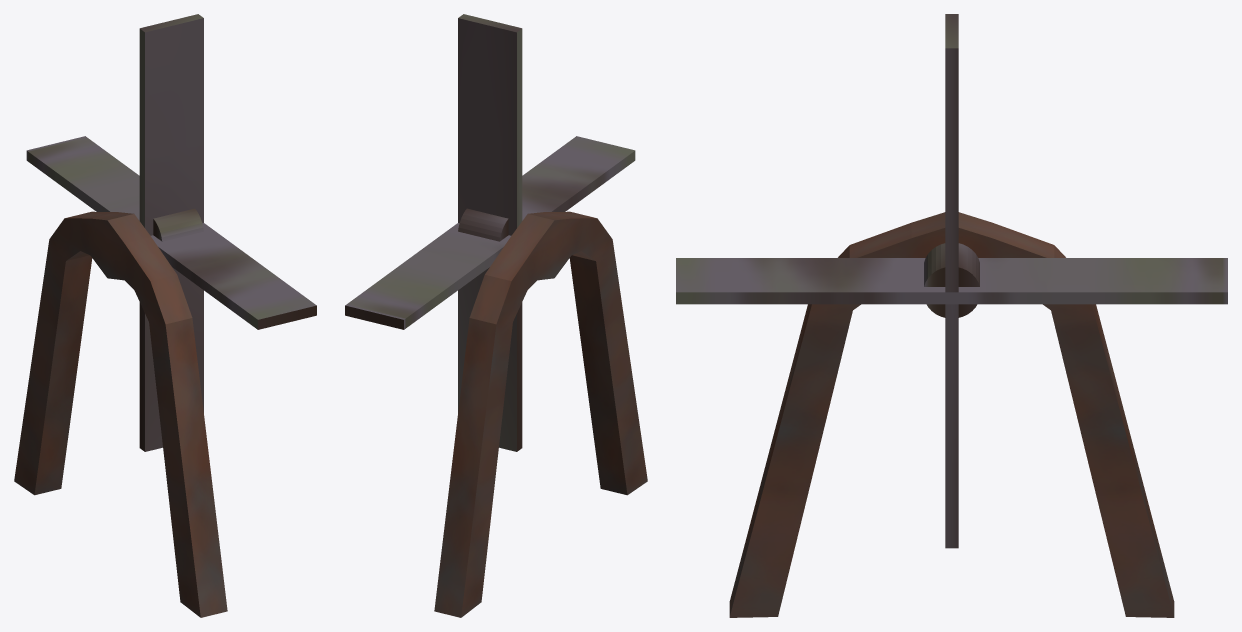
Rendered from BigCooler.fbx.
3 views of the same model, side by side, from view 1: azimuth 30°, elevation 25°; view 2: azimuth 150°, elevation 25°; view 3: azimuth 270°, elevation 25° (orthographic). The views are drawn at different scales.
Visible parts, largest first — view 1: Cube, Cube.002; view 2: Cube, Cube.002; view 3: Cube, Cube.002.
Boxes of the visible parts, box(x1,y1,x2,y2) form: Cube: box(14, 211, 227, 617); Cube.002: box(26, 14, 316, 451); Cube: box(434, 211, 647, 617); Cube.002: box(345, 14, 635, 451); Cube: box(729, 212, 1174, 617); Cube.002: box(676, 14, 1227, 548).
Bounding box in the file's own units: 318 × 1659 × 1363.
